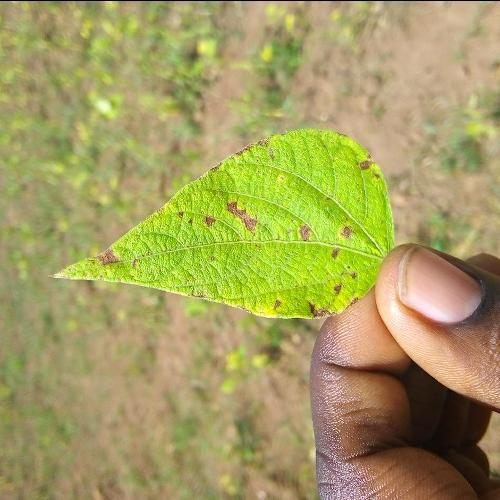hawar: (177, 194, 278, 237), (303, 262, 370, 319), (207, 132, 279, 172), (91, 232, 129, 274), (331, 214, 355, 256), (295, 214, 317, 246), (358, 149, 374, 186), (186, 288, 212, 306)
mozaik: (230, 244, 289, 312)
